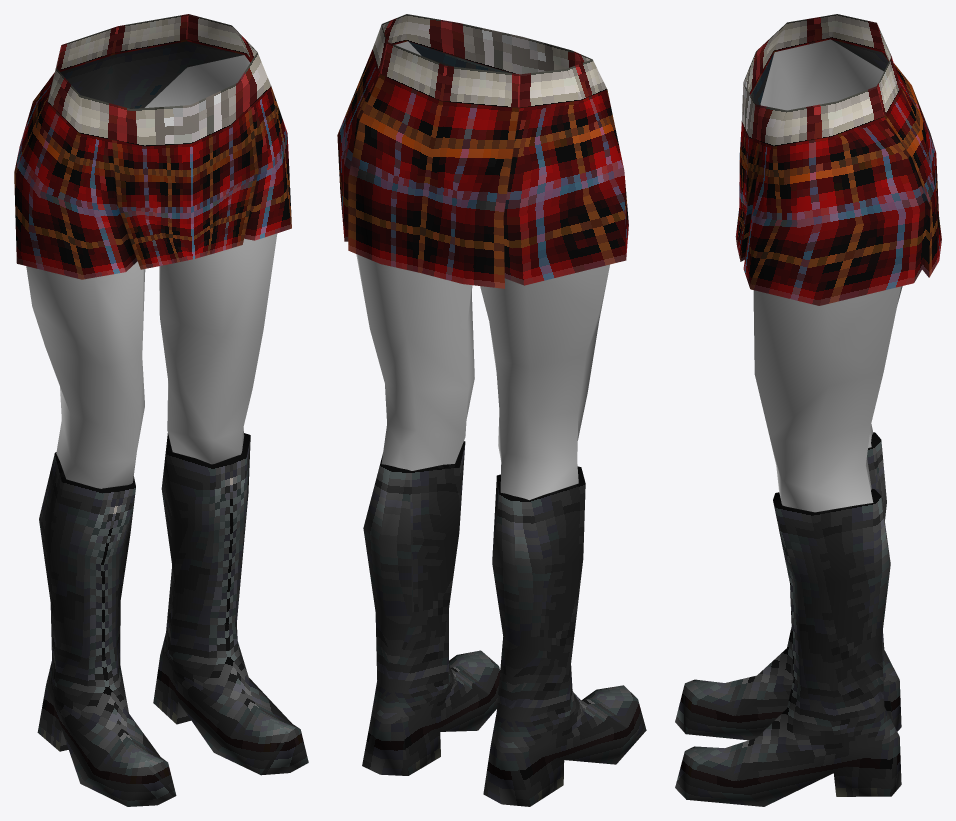
3 renders of one model, left to right at view 1: azimuth 30°, elevation 25°; view 2: azimuth 150°, elevation 25°; view 3: azimuth 270°, elevation 25°, orthographic. The views are drawn at different scales.
Visible parts, largest first — view 1: mesh00; view 2: mesh00; view 3: mesh00.
Boxes of the visible parts, x1,y1,x2,y2 form: mesh00: [14, 14, 308, 806]; mesh00: [337, 14, 646, 806]; mesh00: [675, 14, 941, 806].
Bounding box in the file's own units: 45.57 × 110 × 37.92.
